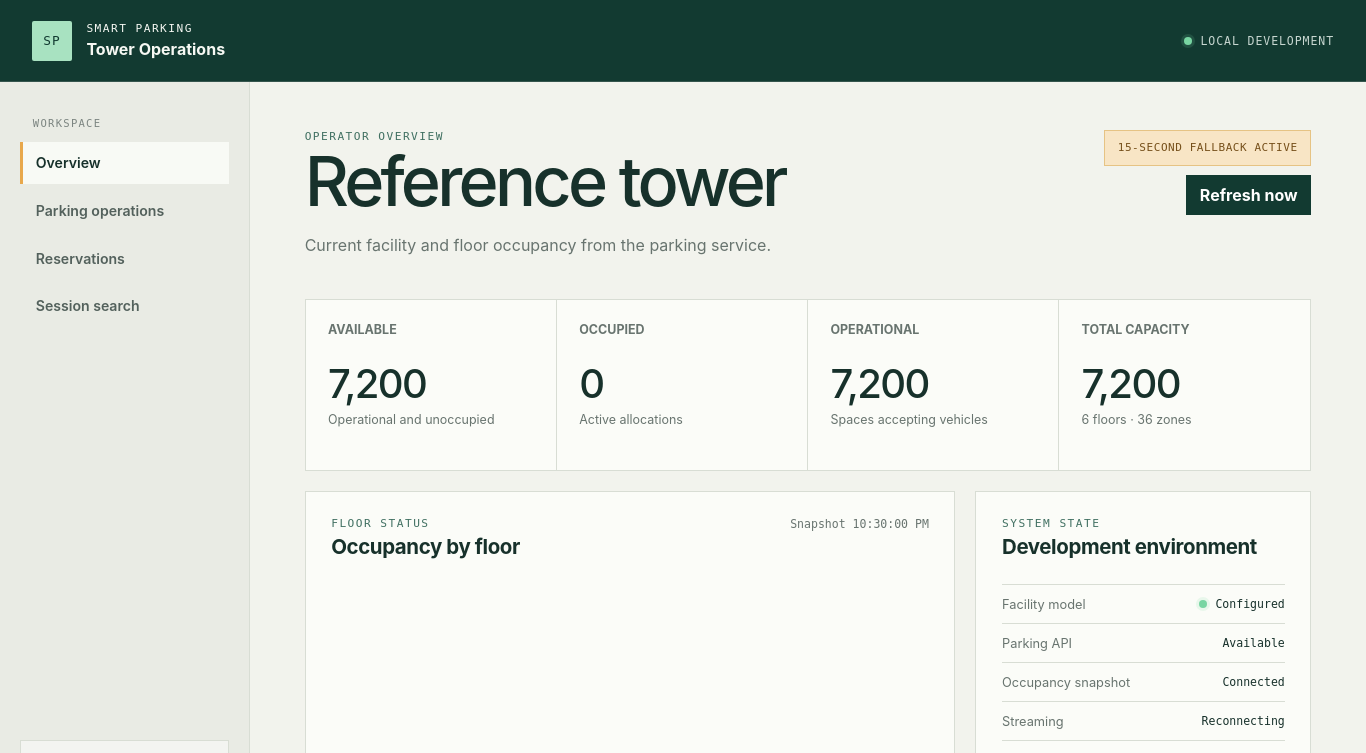
Test case: operator application › navigates to parking operations through the main layout
Click the link "Parking operations": (100,210) [36,202,164,219]
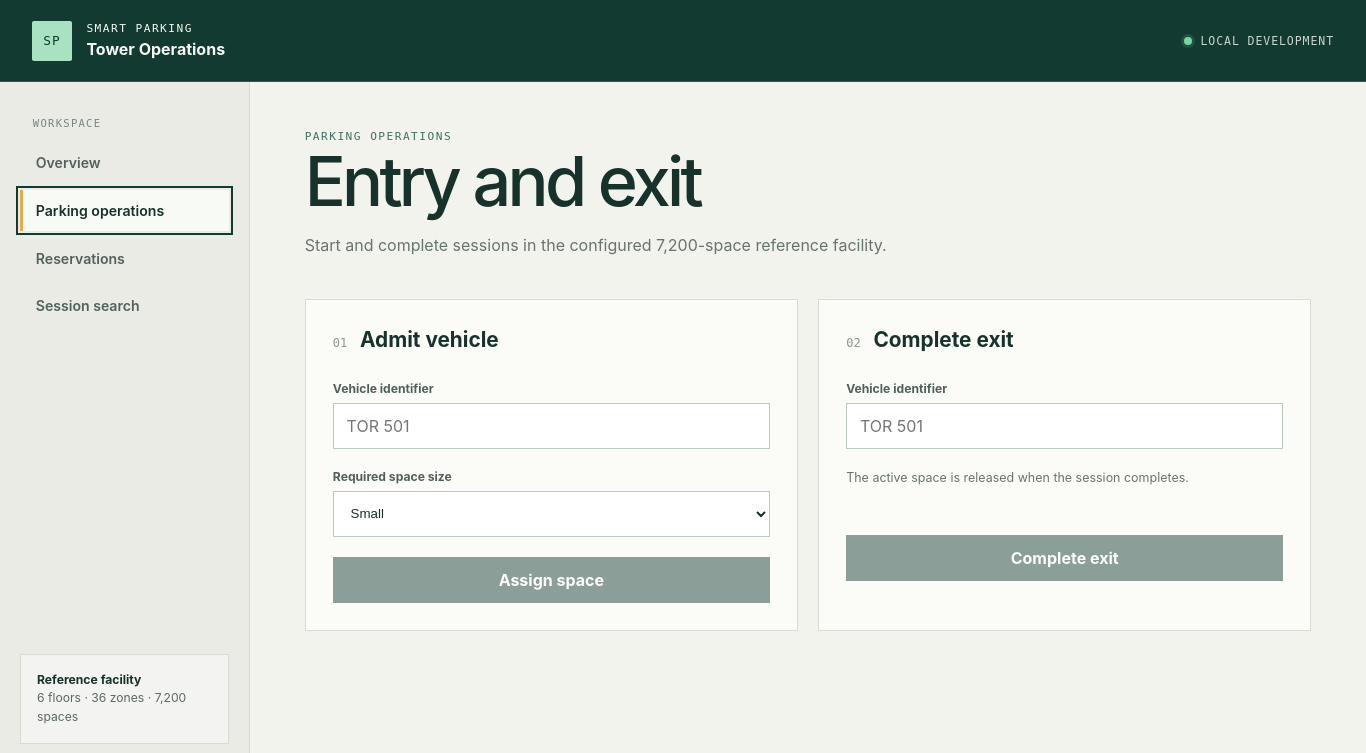
Expected: the heading "Entry and exit" is shown, [305,140,700,222]
Expected: the button "Assign space" is disabled, [333,557,770,603]
Expected: the button "Complete exit" is disabled, [846,535,1283,581]
